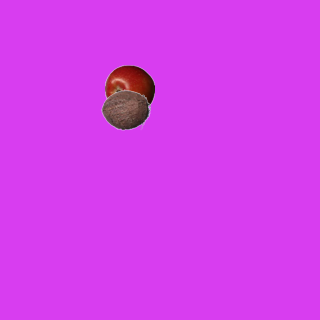Apple Braeburn: (104, 64, 154, 114)
Cocos: (100, 84, 150, 134)
